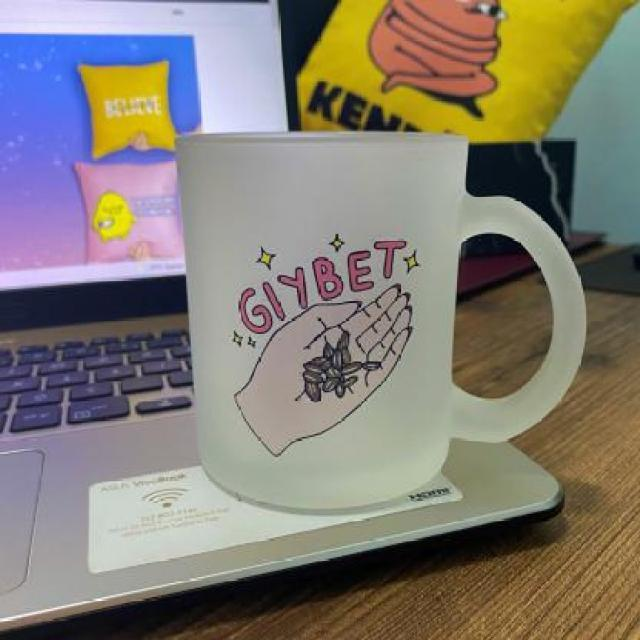taza: (120, 117, 588, 519)
